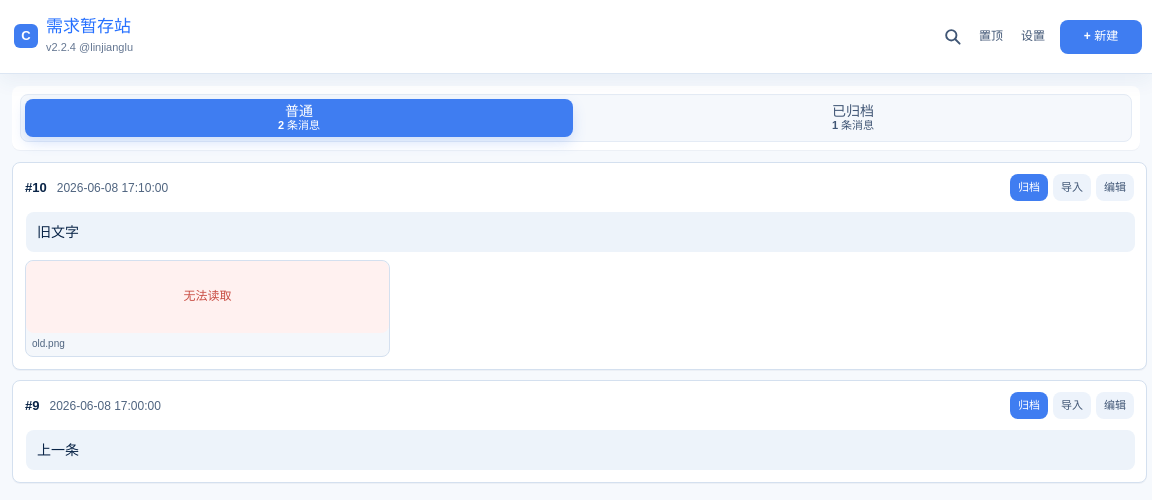
Scenario: message card context menu › shows only copy and merge actions for archived messages
Check: the text "#10" is shown, box left=25, top=179, right=47, bottom=198
Click the button "已归档 1 条消息" at (853, 118), box left=579, top=99, right=1127, bottom=137
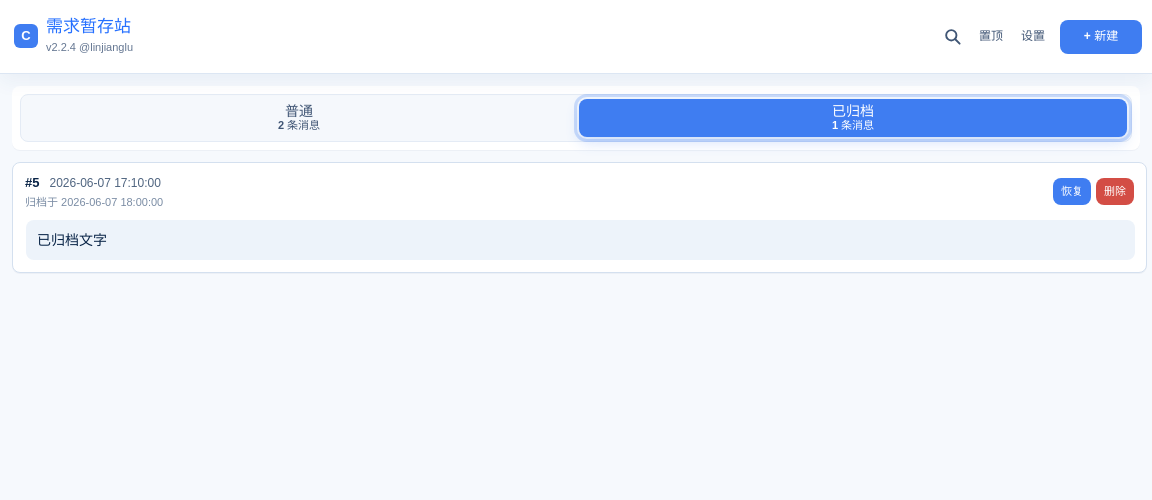
Check: the text "#5" is shown, box left=25, top=174, right=40, bottom=193
Right-click the text "#5" at (580, 217), box left=12, top=162, right=1147, bottom=273
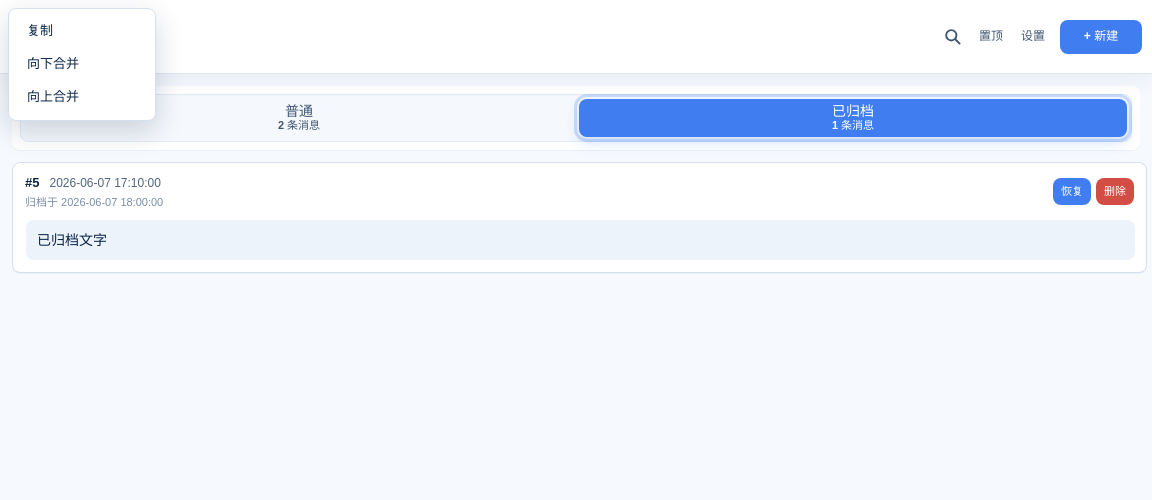
Check: the menu items read "复制", "向下合并", "向上合并", in this order, box left=15, top=15, right=149, bottom=48; left=15, top=48, right=149, bottom=81; left=15, top=81, right=149, bottom=114
